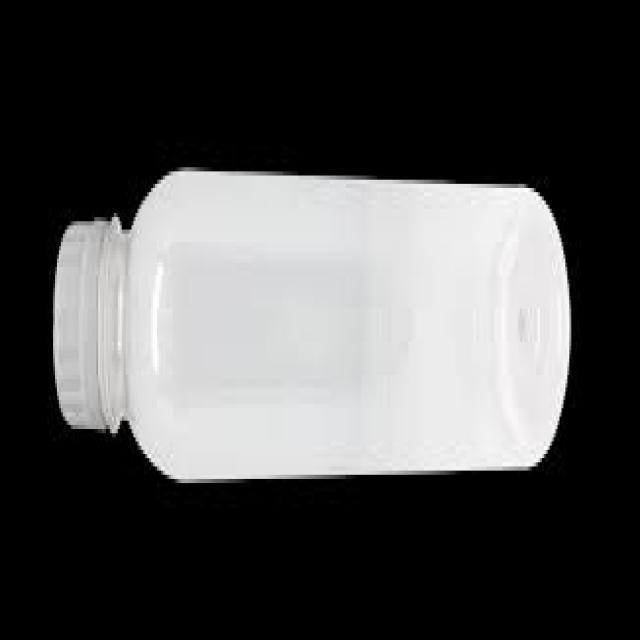bottle: (54, 169, 569, 478)
